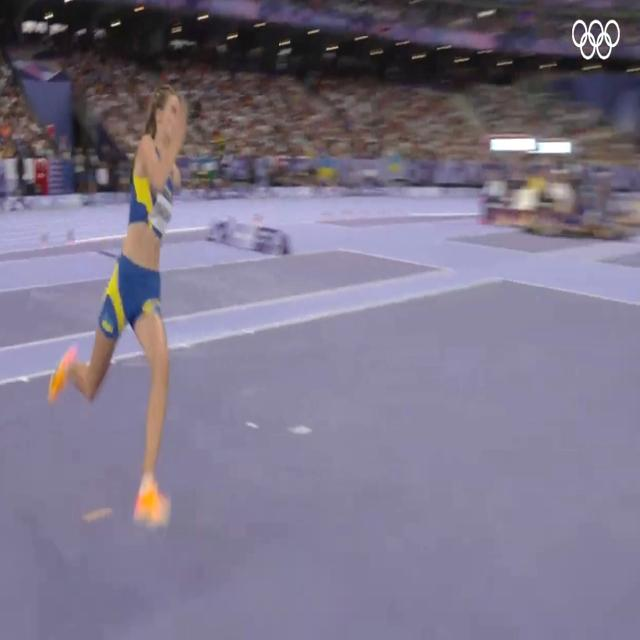run: (48, 74, 196, 529)
